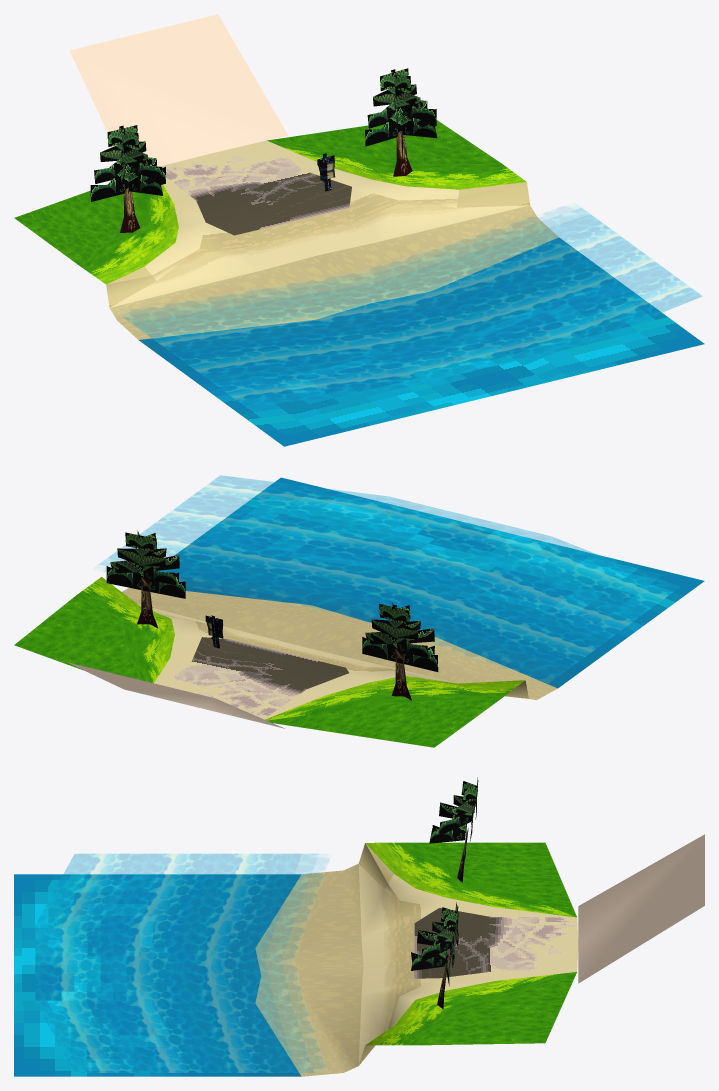
3 views of the same model, one above another, from view 1: azimuth 30°, elevation 25°; view 2: azimuth 150°, elevation 25°; view 3: azimuth 270°, elevation 25° (orthographic). The views are drawn at different scales.
Visible parts, largest first — view 1: king_out; view 2: king_out; view 3: king_out.
Boxes of the visible parts, box(x1,y1,x2,y2) form: king_out: box(14, 14, 704, 446); king_out: box(14, 475, 704, 747); king_out: box(14, 777, 704, 1076).
Bounding box in the file's own units: 3 × 0.821 × 3.99.
Materials: 19 (19 with a texture image).
